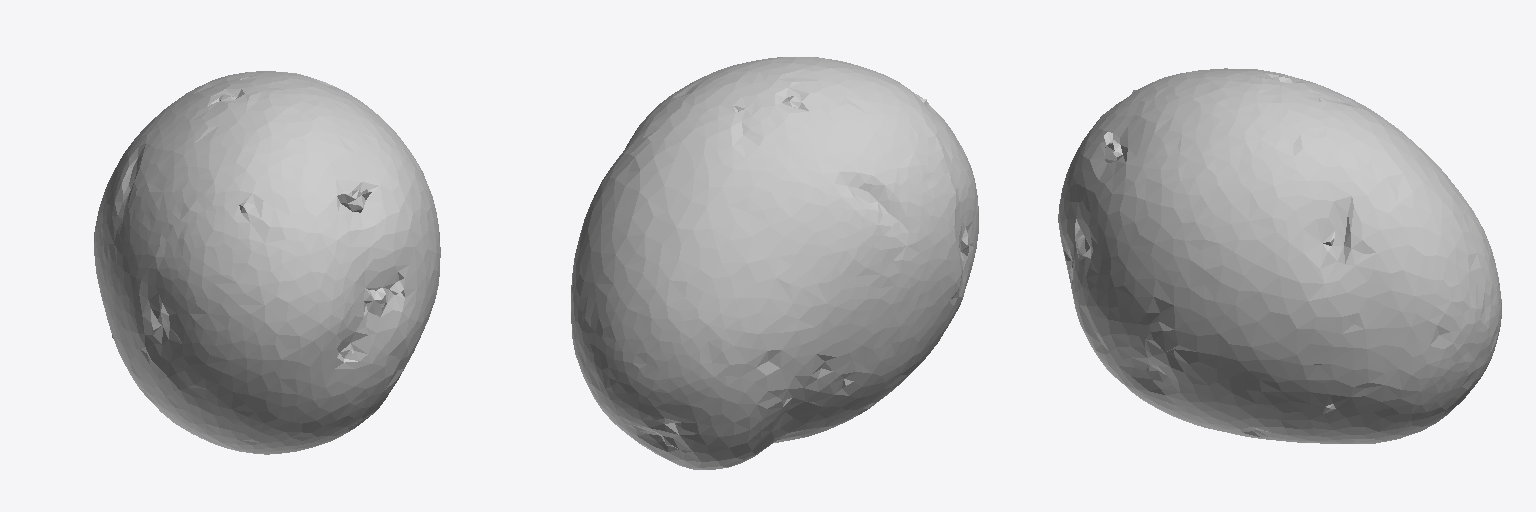
Rendered from red1decimated.obj.
3 views of the same model, side by side, from view 1: azimuth 30°, elevation 25°; view 2: azimuth 150°, elevation 25°; view 3: azimuth 270°, elevation 25° (orthographic).
Parts seen in each view (by area): view 1: red1decimated; view 2: red1decimated; view 3: red1decimated.
Part boxes in pixels (bbox=[...]): red1decimated: bbox=[94, 71, 440, 454]; red1decimated: bbox=[571, 57, 978, 469]; red1decimated: bbox=[1058, 68, 1501, 443].
Bounding box in the file's own units: 0.0573 × 0.0614 × 0.0718.